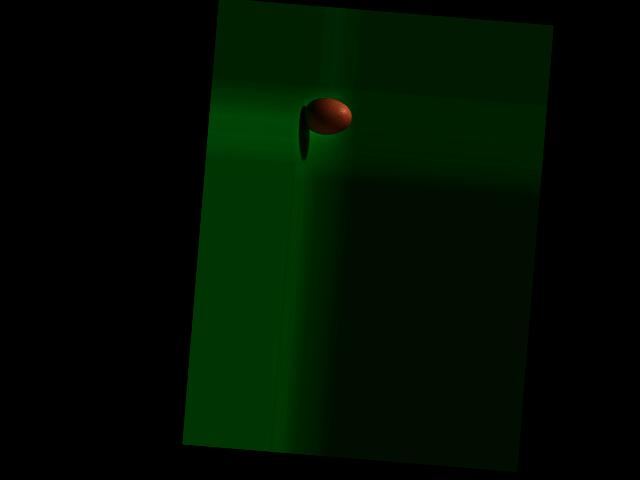egg: (301, 96, 352, 137)
